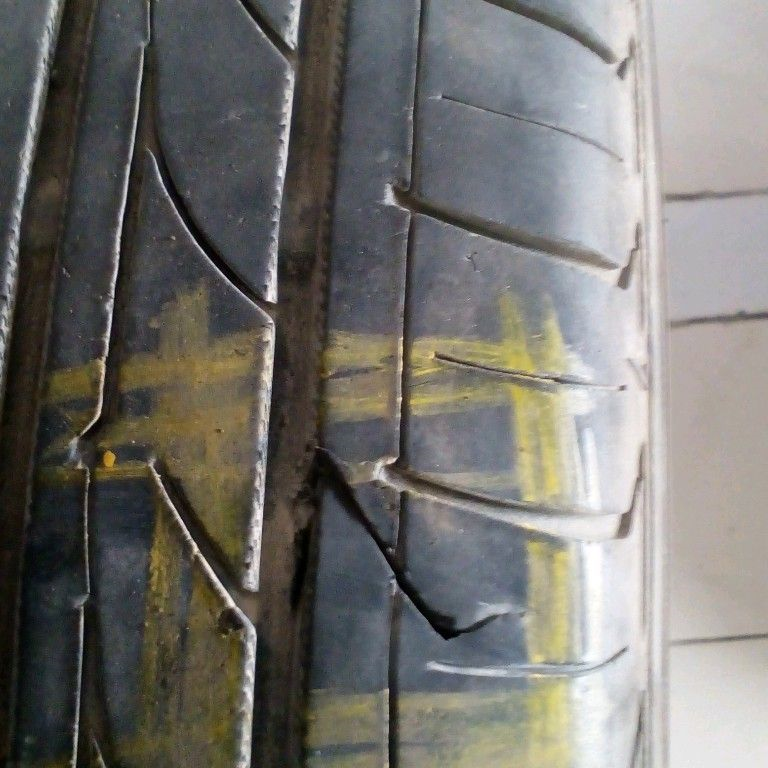tr: (294, 447, 510, 648)
